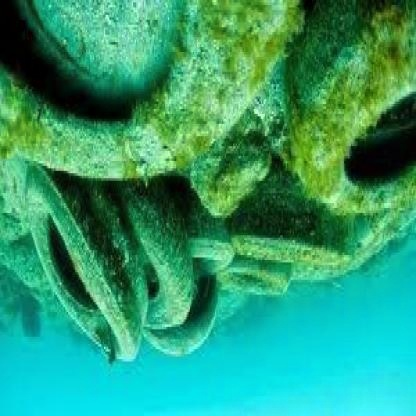tire: (2, 5, 298, 198), (278, 2, 416, 245), (18, 171, 154, 384), (229, 191, 363, 277), (140, 173, 186, 352), (151, 272, 237, 356), (218, 260, 304, 312), (178, 208, 242, 267)
